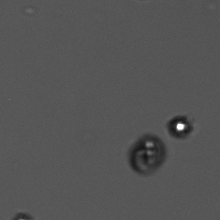Dead Cell: (123, 133, 170, 174)
Living Cell: (163, 115, 196, 135)
